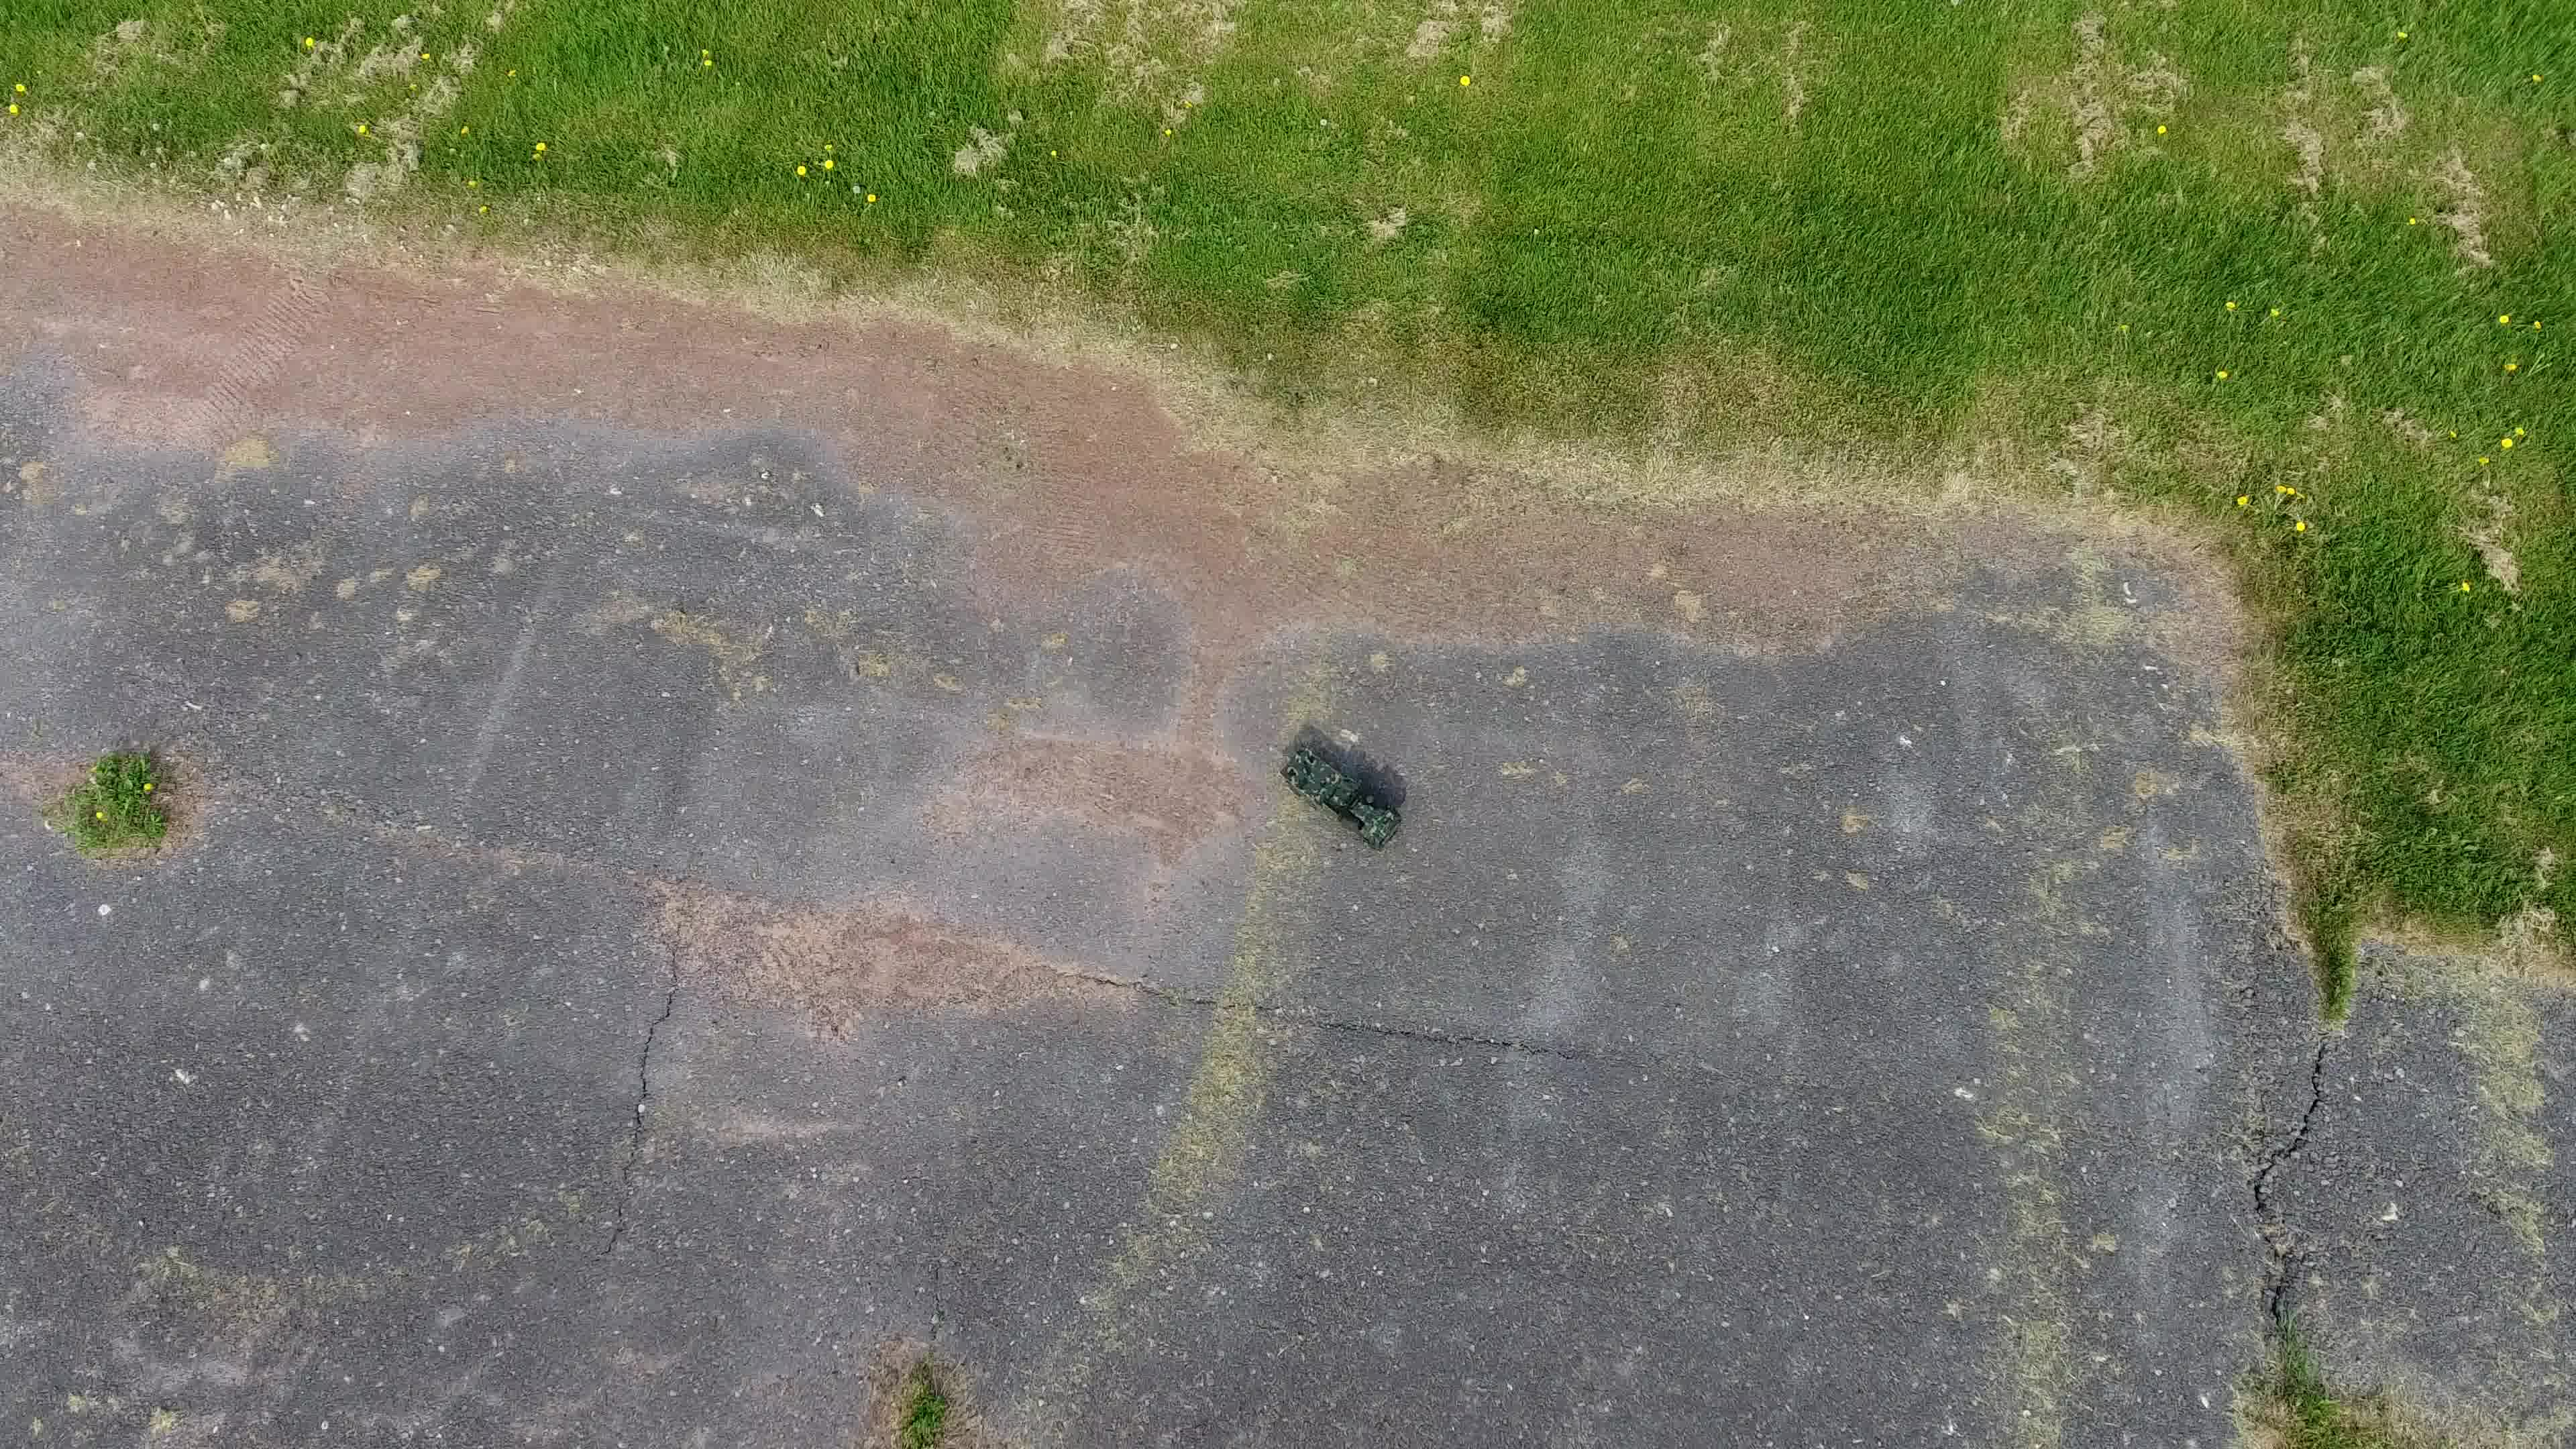transporter9_camo: (1276, 741, 1405, 855)
